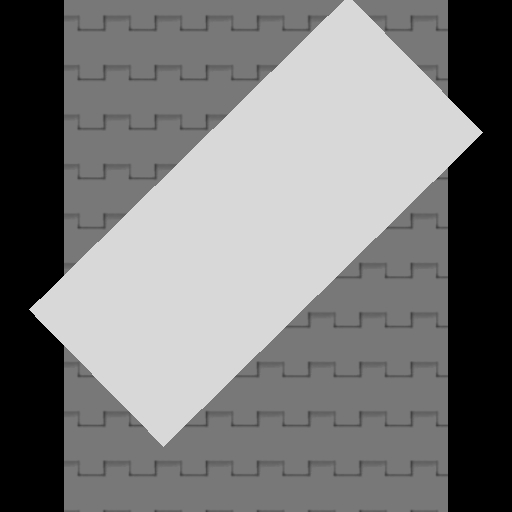Defect: (25, 0, 480, 449)
